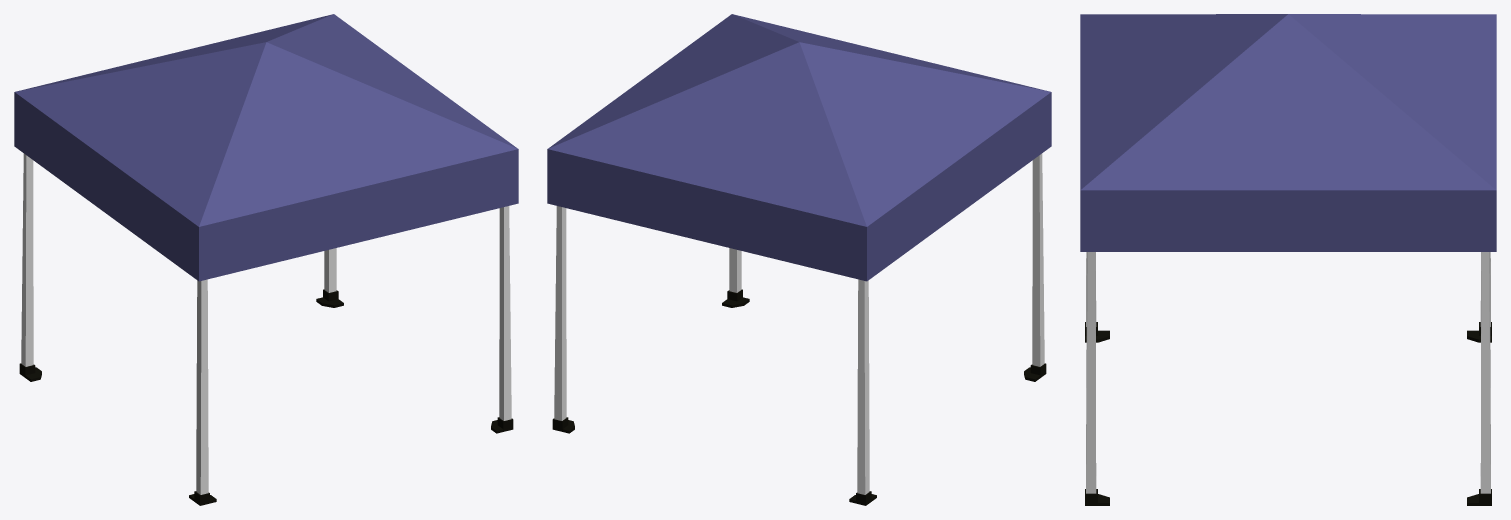
File: 簡易テント.fbx
3 renders of one model, left to right at view 1: azimuth 30°, elevation 25°; view 2: azimuth 150°, elevation 25°; view 3: azimuth 270°, elevation 25°, orthographic. The views are drawn at different scales.
Visible parts, largest first — view 1: 簡易テント; view 2: 簡易テント; view 3: 簡易テント.
Part boxes in pixels (<box>): 簡易テント: <box>14,14,518,505</box>; 簡易テント: <box>547,14,1051,505</box>; 簡易テント: <box>1080,14,1496,505</box>.
Bounding box in the file's own units: 211 × 227 × 211.
